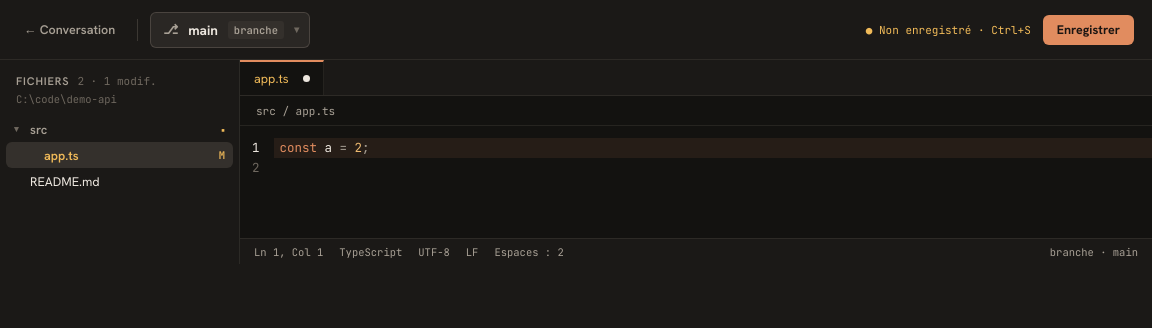
EditorView › saves over what changed on disk with "Garder ma version"
Click the button "Enregistrer" at (1088, 30), box 1043,14 -> 1134,44
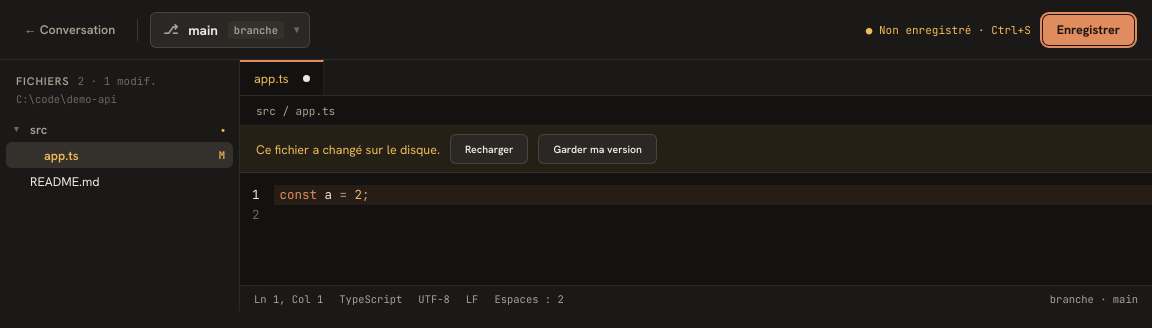
Now the message shows "Ce fichier a changé sur le disque.", box 256,140 -> 440,158
Click the button "Garder ma version" at (598, 149), box 538,134 -> 657,164
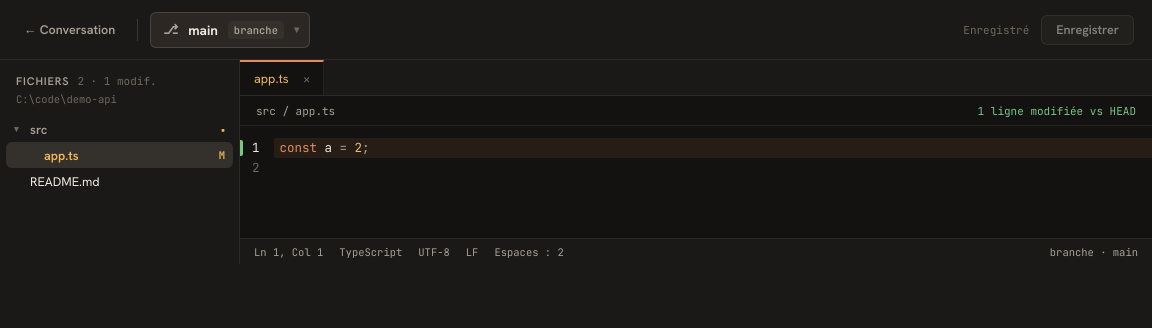
Expected: the text "Enregistré" is shown, 963,22 -> 1029,36
Now the message "Ce fichier a changé sur le disque. Recharger Garder ma version" is gone
